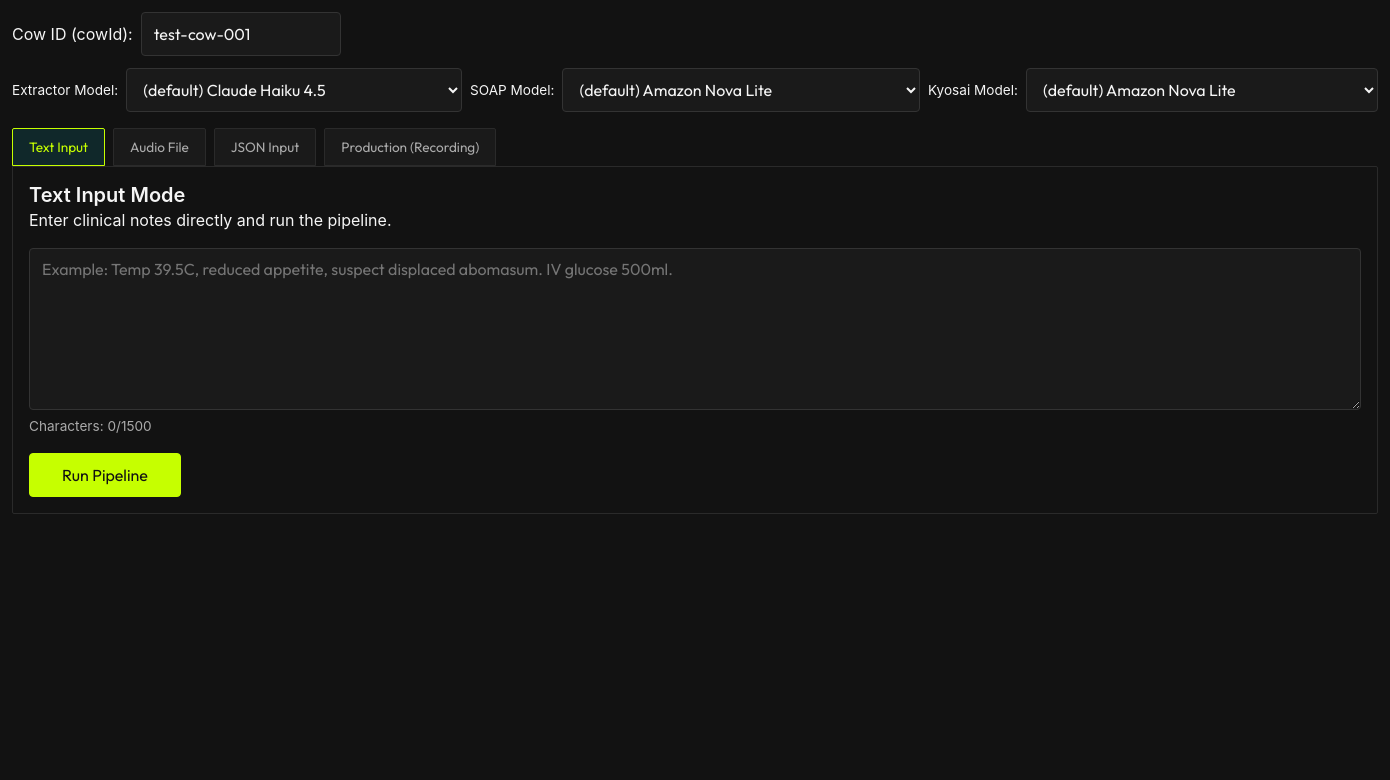
Test: PipelineEntryForm component › validation errors › displays validation error for invalid JSON syntax
// Switch to JSON input tab
Click the tab "JSON Input" at coordinates (265, 147), box [214,128,316,166]
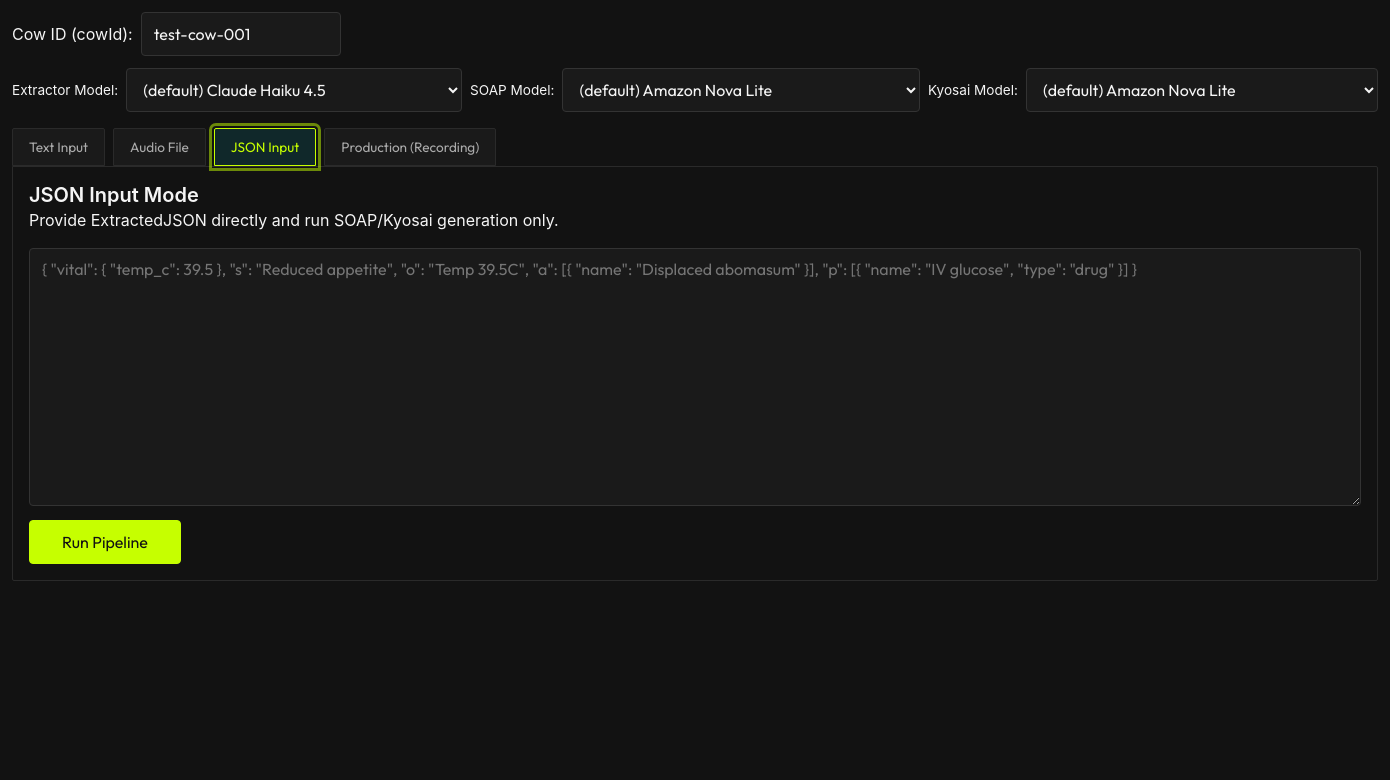
Click the text box at coordinates (695, 377), box [29,248,1361,506]
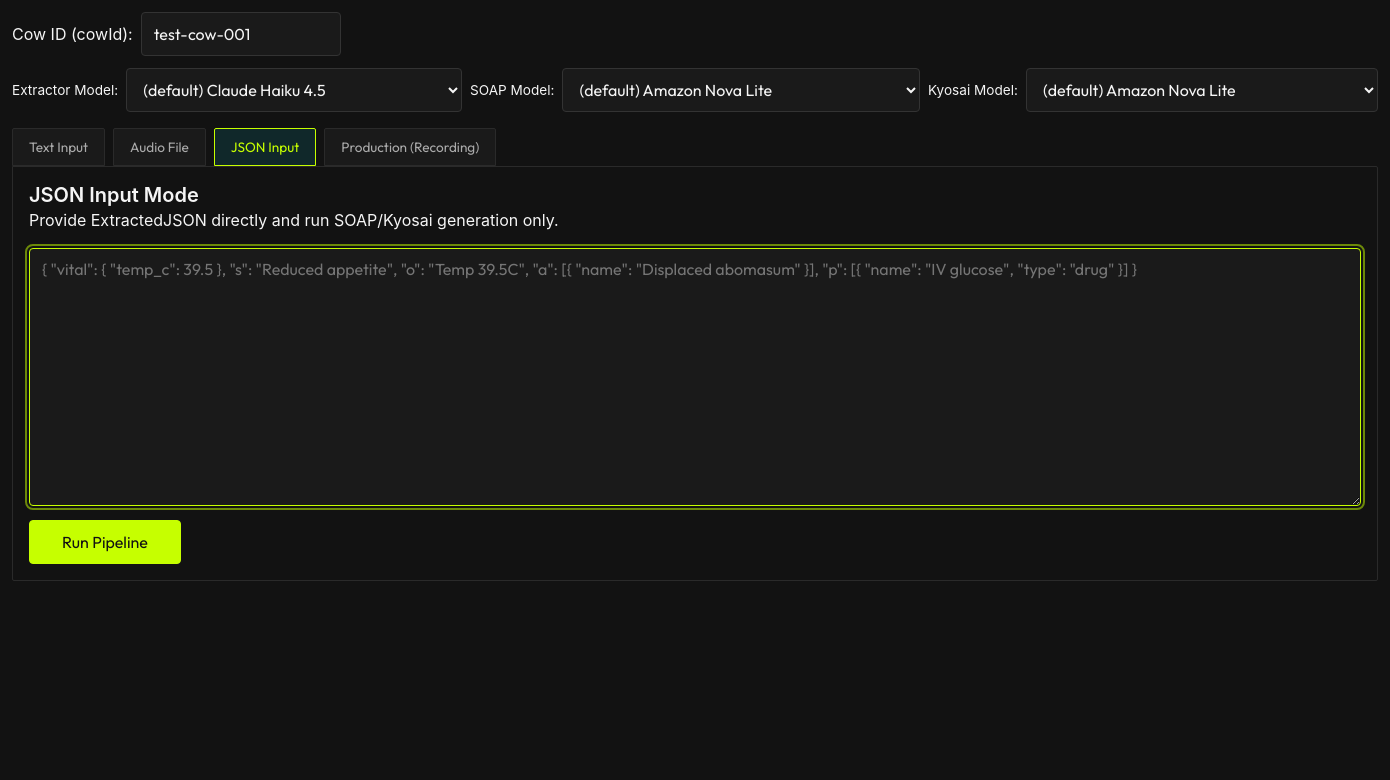
Type keys "{ invalid json }"
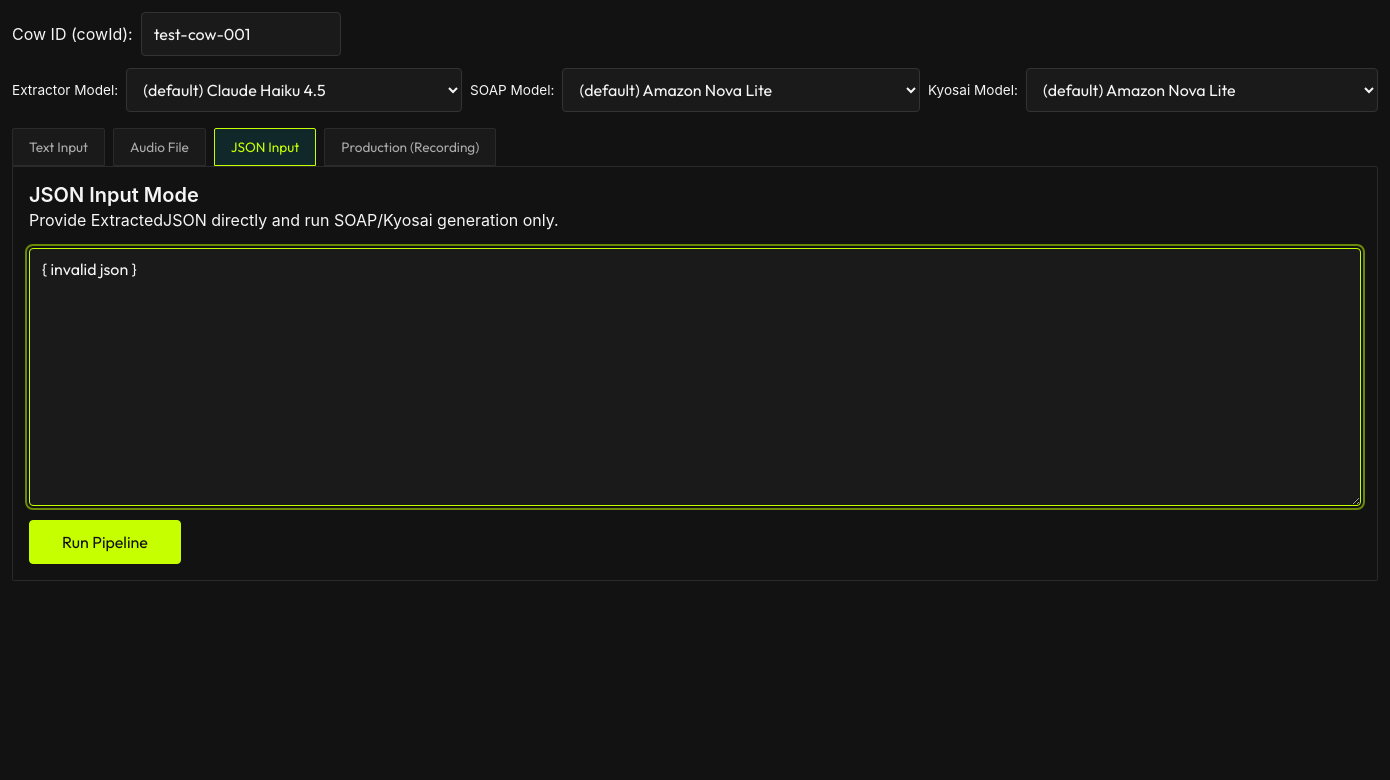
Click the button "Run Pipeline" at coordinates (105, 542), box [29,520,181,564]
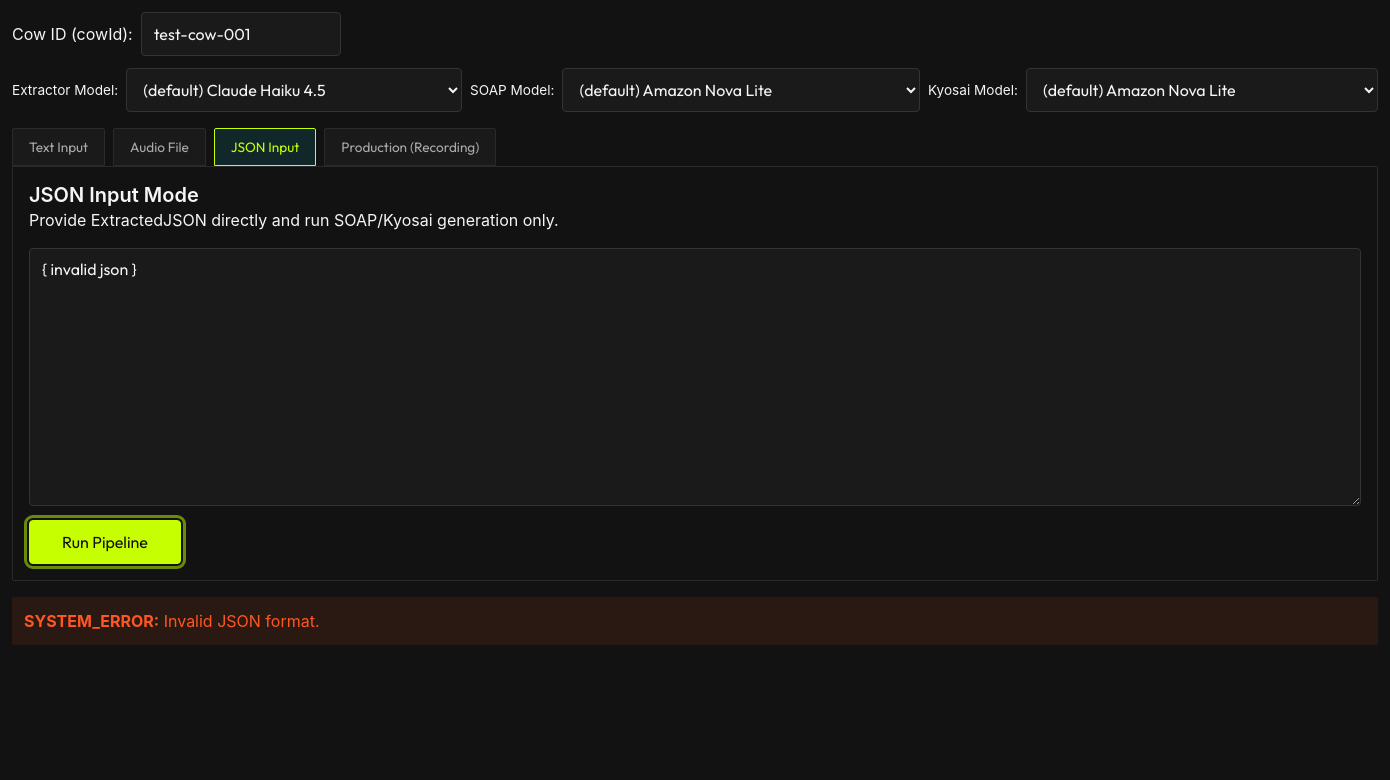
Expected: the message shows "Invalid JSON format.", [164,611,320,631]
